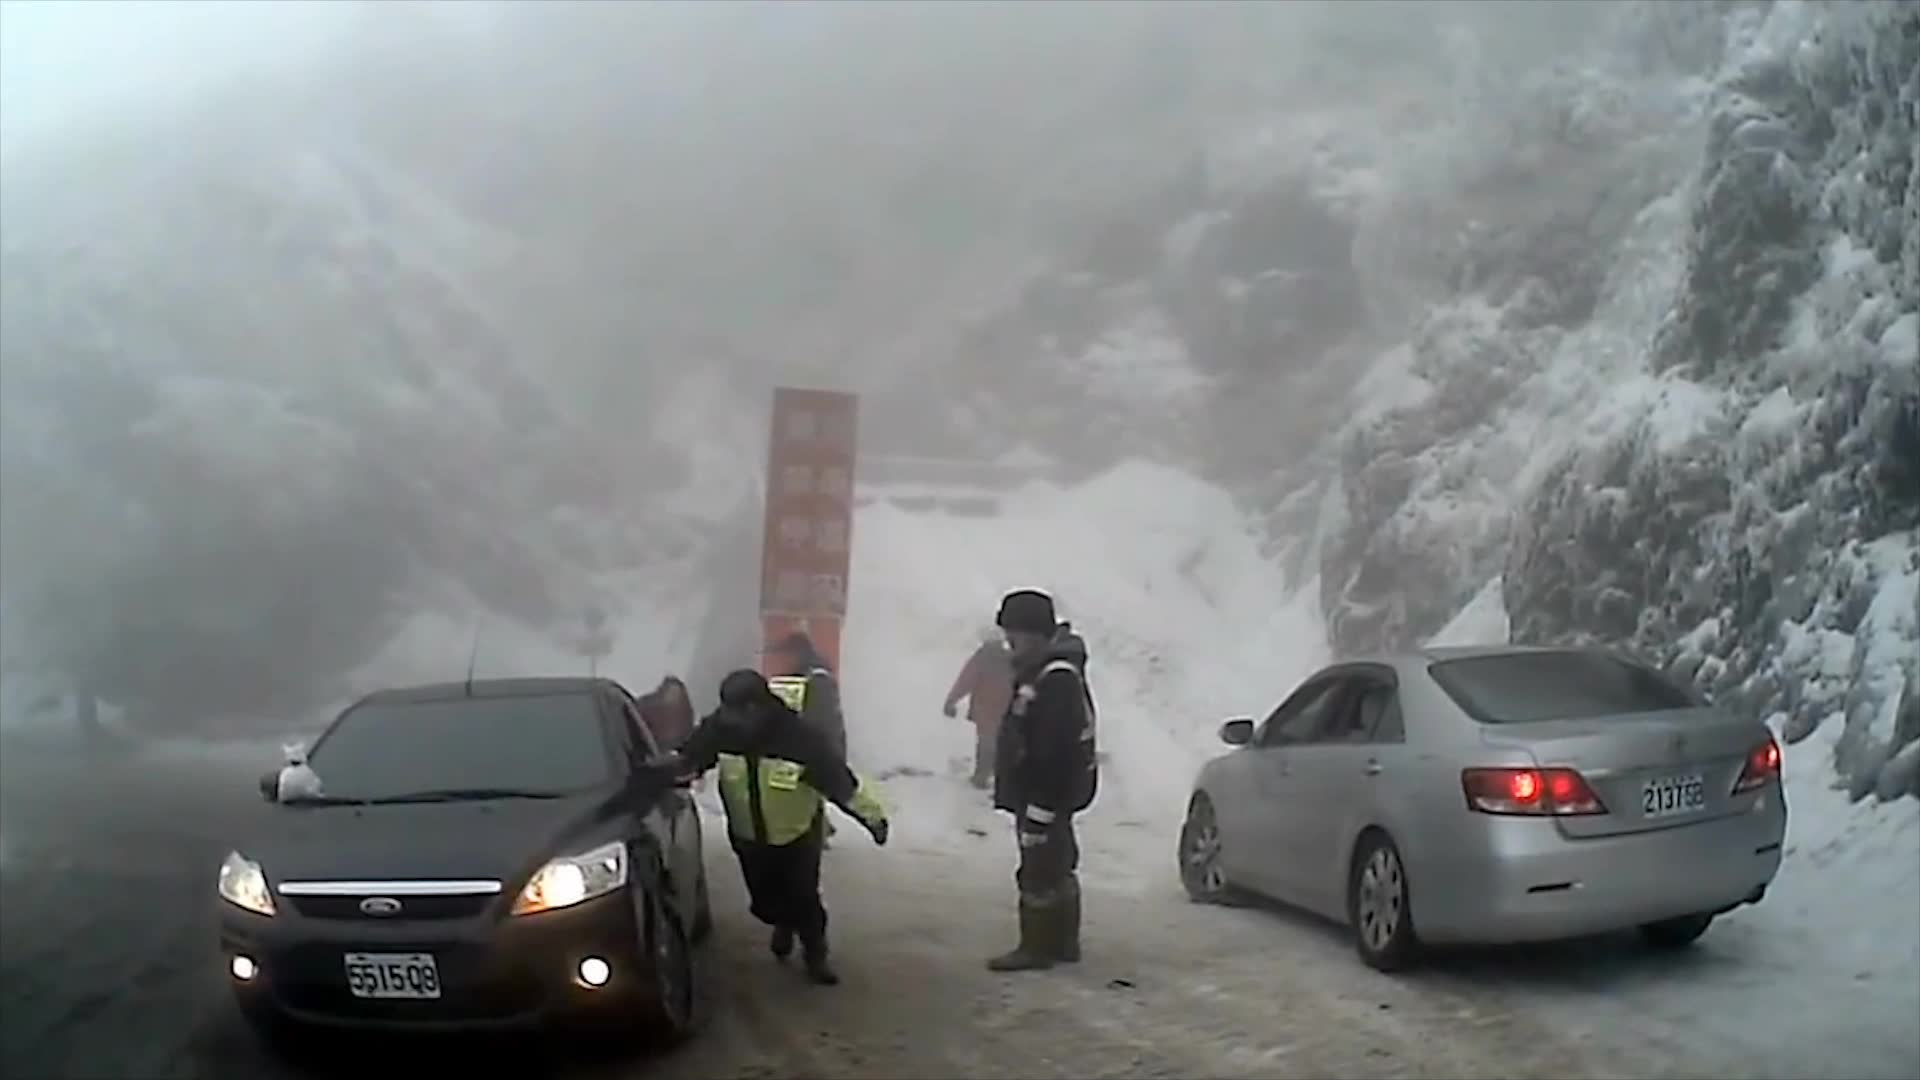pedestrian: (667, 669, 875, 990), (978, 590, 1100, 975), (768, 632, 845, 862), (947, 612, 1034, 796), (620, 671, 701, 853)
vehicle: (1174, 644, 1788, 974), (207, 676, 713, 1051)
